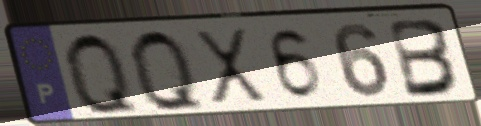6: (329, 21, 392, 102), (265, 27, 326, 102)
B: (386, 17, 464, 101)
Q: (126, 26, 211, 115), (61, 29, 145, 119)
X: (190, 26, 272, 107)
